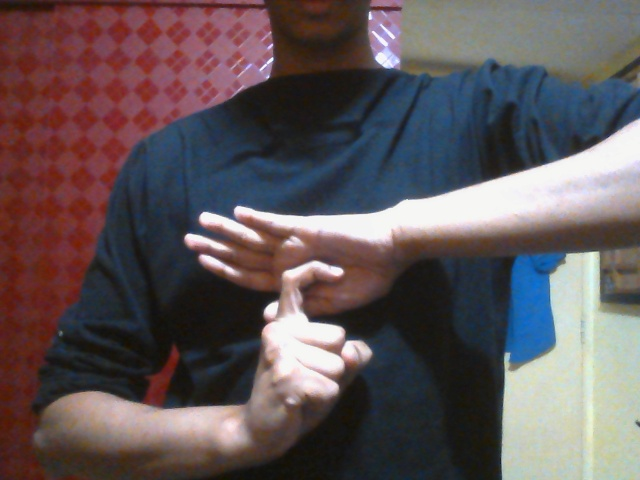R: (181, 191, 419, 452)
